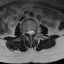CCS_normal: (30, 28, 32, 37)
LFS_normal: (34, 28, 36, 35)
LLS_normal: (32, 28, 34, 35)
RFS_normal: (25, 28, 27, 35)
RLS_normal: (27, 28, 30, 35)
